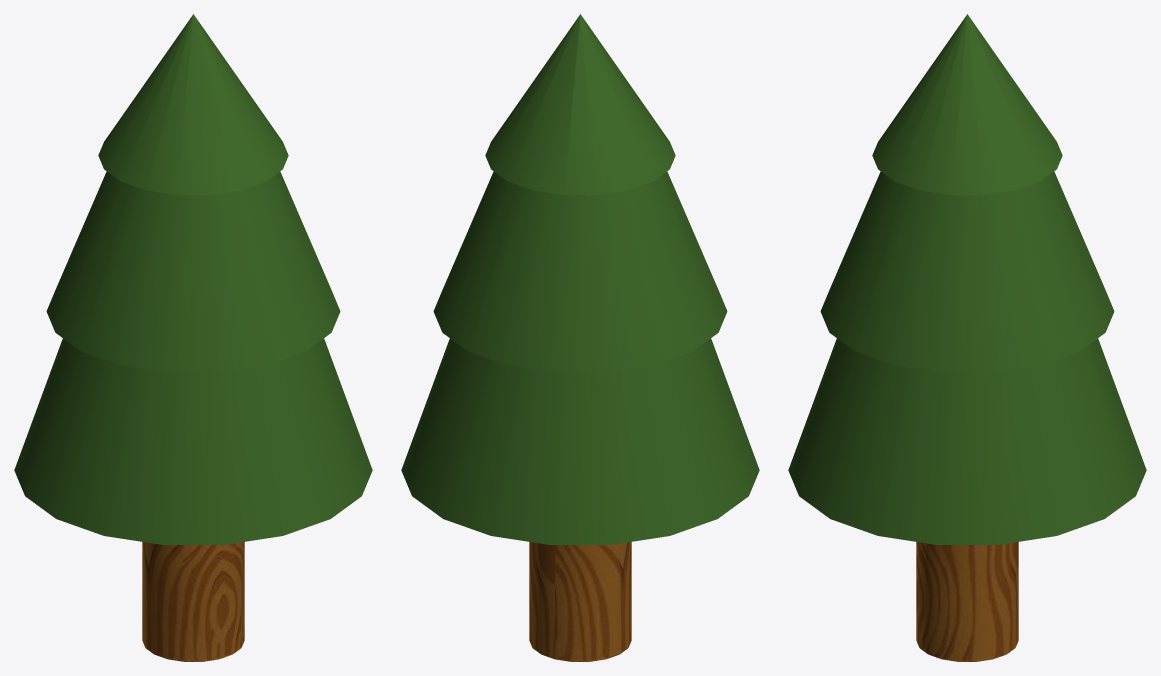
The picture shows the model from 3 angles, left to right: view 1: azimuth 30°, elevation 25°; view 2: azimuth 150°, elevation 25°; view 3: azimuth 270°, elevation 25°; orthographic projection.
Parts seen in each view (by area): view 1: Cylinder; view 2: Cylinder; view 3: Cylinder.
Boxes of the visible parts, bbox=[...] form: Cylinder: bbox=[14, 14, 372, 661]; Cylinder: bbox=[401, 14, 759, 661]; Cylinder: bbox=[788, 14, 1146, 661].
Bounding box in the file's own units: 553 × 1084 × 562.
Materials: 2 (1 with a texture image).
